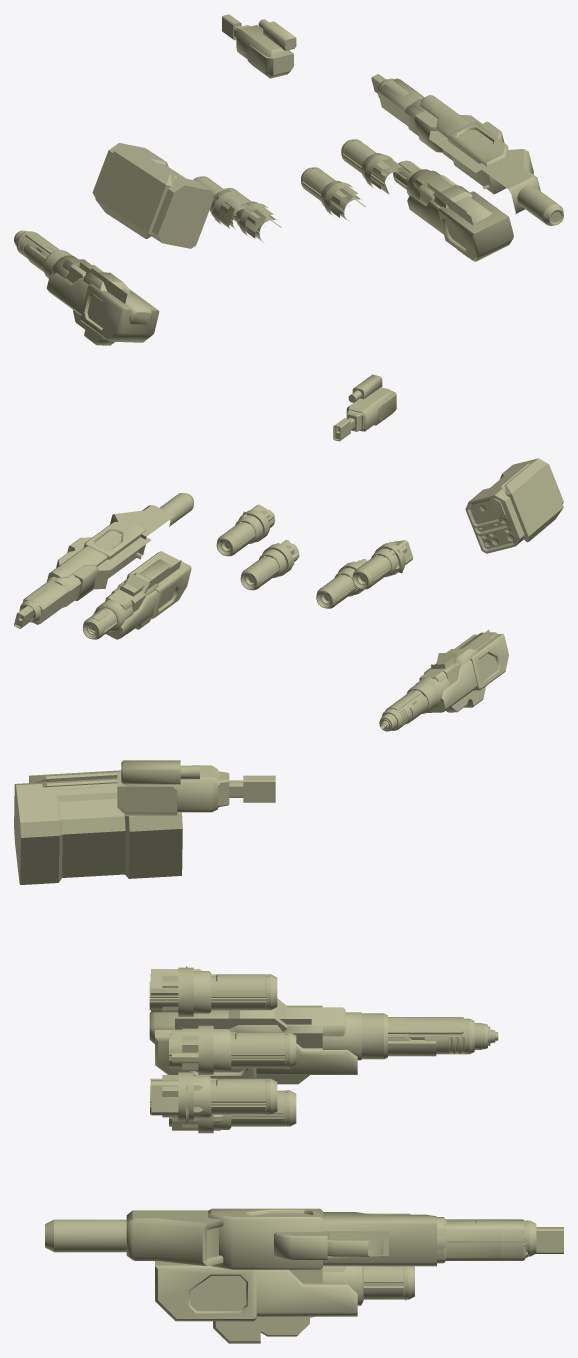
File: BlackknightWeapons.glb
3 views of the same model, one above another, from view 1: azimuth 30°, elevation 25°; view 2: azimuth 150°, elevation 25°; view 3: azimuth 270°, elevation 25° (orthographic). The views are drawn at different scales.
Visible parts, largest first — view 1: Forearm_Right_EH2_Laser, Upperarm_Left_MH1_Missile20, Forearm_Right_EH1_PPC, Upperarm_Left_MH1_Missile15, Forearm_Left_BH1_AC10, Head_EH1_Flamer, Upperarm_Left_MH1_Missile10, Forearm_Left_BH1_AC5, Forearm_Left_EH1_Laser, Head_EH1_Laser, Forearm_Left_BH1_AC20, Torso_Right_EH2_PPC (+9 smaller); view 2: Forearm_Right_EH2_Laser, Forearm_Right_EH1_PPC, Upperarm_Left_MH1_Missile20, Forearm_Left_BH1_AC10, Upperarm_Left_MH1_Missile15, Head_EH1_Flamer, Torso_Right_EH1_PPC, Torso_Right_EH2_PPC, Forearm_Left_BH1_AC20, Torso_Left_EH2_PPC, Forearm_Left_BH1_AC5, Torso_Left_EH1_PPC (+5 smaller); view 3: Forearm_Right_EH1_PPC, Forearm_Right_EH2_Flamer, Forearm_Right_EH2_PPC, Upperarm_Left_MH1_Missile15, Forearm_Left_BH1_AC20, Upperarm_Left_MH1_Missile20, Forearm_Right_EH2_Laser, Head_EH1_Laser, Torso_Left_EH2_PPC, Torso_Left_EH1_PPC, Upperarm_Left_MH1_Missile10, Torso_Right_EH2_PPC (+7 smaller).
Boxes of the visible parts, x1,y1,x2,y2 form: Forearm_Right_EH2_Laser: (377, 78, 562, 223); Upperarm_Left_MH1_Missile20: (92, 143, 210, 248); Forearm_Right_EH1_PPC: (393, 160, 513, 261); Upperarm_Left_MH1_Missile15: (93, 143, 202, 241); Forearm_Left_BH1_AC10: (14, 230, 154, 330); Head_EH1_Flamer: (222, 14, 296, 78); Upperarm_Left_MH1_Missile10: (100, 143, 173, 215); Forearm_Left_BH1_AC5: (47, 271, 152, 345); Forearm_Left_EH1_Laser: (62, 259, 152, 324); Head_EH1_Laser: (236, 19, 295, 74); Forearm_Left_BH1_AC20: (15, 231, 154, 332); Torso_Right_EH2_PPC: (341, 139, 406, 191); Forearm_Right_EH2_Laser: (23, 492, 193, 624); Forearm_Right_EH1_PPC: (83, 551, 191, 639); Upperarm_Left_MH1_Missile20: (469, 458, 563, 541); Forearm_Left_BH1_AC10: (379, 634, 508, 731); Upperarm_Left_MH1_Missile15: (465, 458, 563, 553); Head_EH1_Flamer: (333, 374, 395, 441); Torso_Right_EH1_PPC: (240, 543, 298, 590); Torso_Right_EH2_PPC: (216, 509, 275, 556); Forearm_Left_BH1_AC20: (382, 681, 438, 730); Torso_Left_EH2_PPC: (352, 540, 405, 589); Forearm_Left_BH1_AC5: (379, 629, 508, 730); Torso_Left_EH1_PPC: (316, 560, 363, 608); Forearm_Right_EH1_PPC: (155, 1261, 414, 1343); Forearm_Right_EH2_Flamer: (45, 1210, 563, 1269); Forearm_Right_EH2_PPC: (45, 1210, 536, 1269); Upperarm_Left_MH1_Missile15: (15, 770, 182, 884); Forearm_Left_BH1_AC20: (155, 1013, 482, 1084); Upperarm_Left_MH1_Missile20: (14, 770, 182, 884); Forearm_Right_EH2_Laser: (45, 1208, 527, 1260); Head_EH1_Laser: (117, 760, 219, 815); Torso_Left_EH2_PPC: (149, 967, 277, 1016); Torso_Left_EH1_PPC: (169, 1025, 296, 1074); Upperarm_Left_MH1_Missile10: (20, 775, 182, 865); Torso_Right_EH2_PPC: (150, 1072, 277, 1121).
Bounding box in the file's own units: 1.64 × 1.04 × 1.22.
